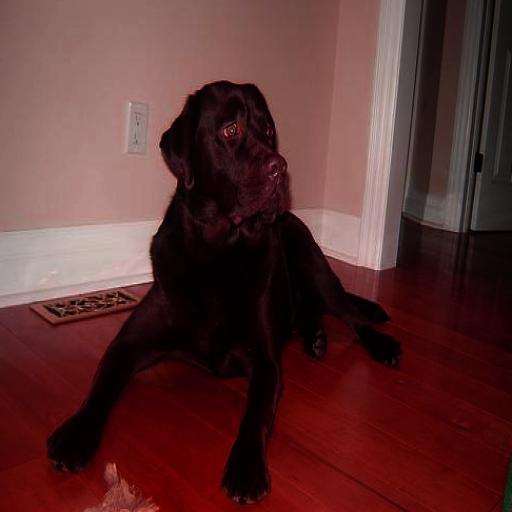dog_face: (162, 77, 295, 230)
